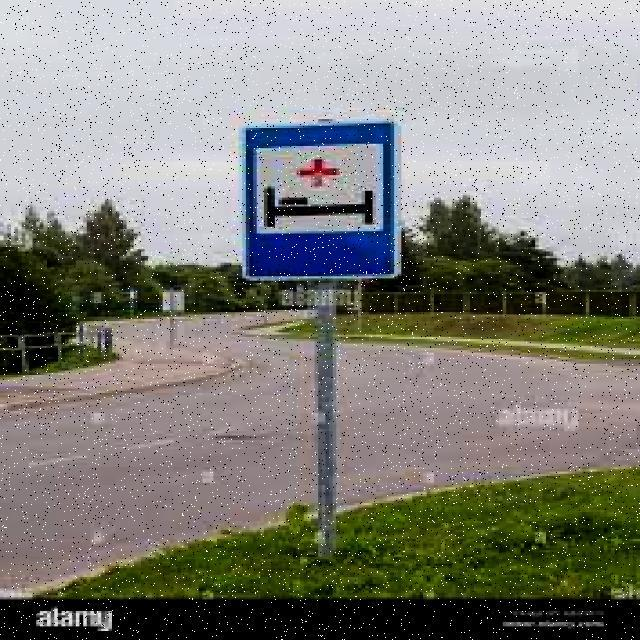Traffic sign: (235, 115, 408, 286)
